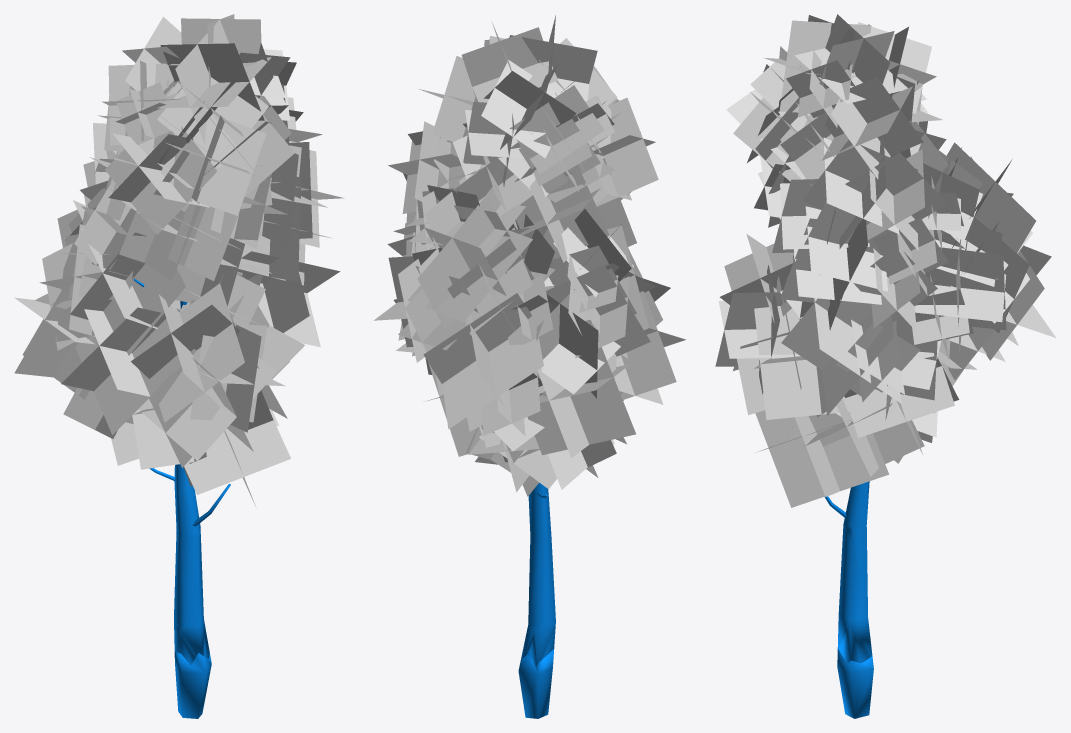
File: TFF_Aspen_Tree_03A_Broken.fbx
3 views of the same model, side by side, from view 1: azimuth 30°, elevation 25°; view 2: azimuth 150°, elevation 25°; view 3: azimuth 270°, elevation 25° (orthographic). The views are drawn at different scales.
Parts seen in each view (by area): view 1: TFF_Aspen_Tree_03A_1, TFF_Aspen_Tree_03A; view 2: TFF_Aspen_Tree_03A_1, TFF_Aspen_Tree_03A; view 3: TFF_Aspen_Tree_03A_1, TFF_Aspen_Tree_03A.
Part boxes in pixels (x1,y1,x2,y2): TFF_Aspen_Tree_03A_1: (14,14,344,665); TFF_Aspen_Tree_03A: (174,652,211,718); TFF_Aspen_Tree_03A_1: (374,15,685,666); TFF_Aspen_Tree_03A: (518,649,553,718); TFF_Aspen_Tree_03A_1: (715,14,1055,663); TFF_Aspen_Tree_03A: (837,648,873,718).
Size of the model in its own units: 3.01 by 7.38 by 3.25.
